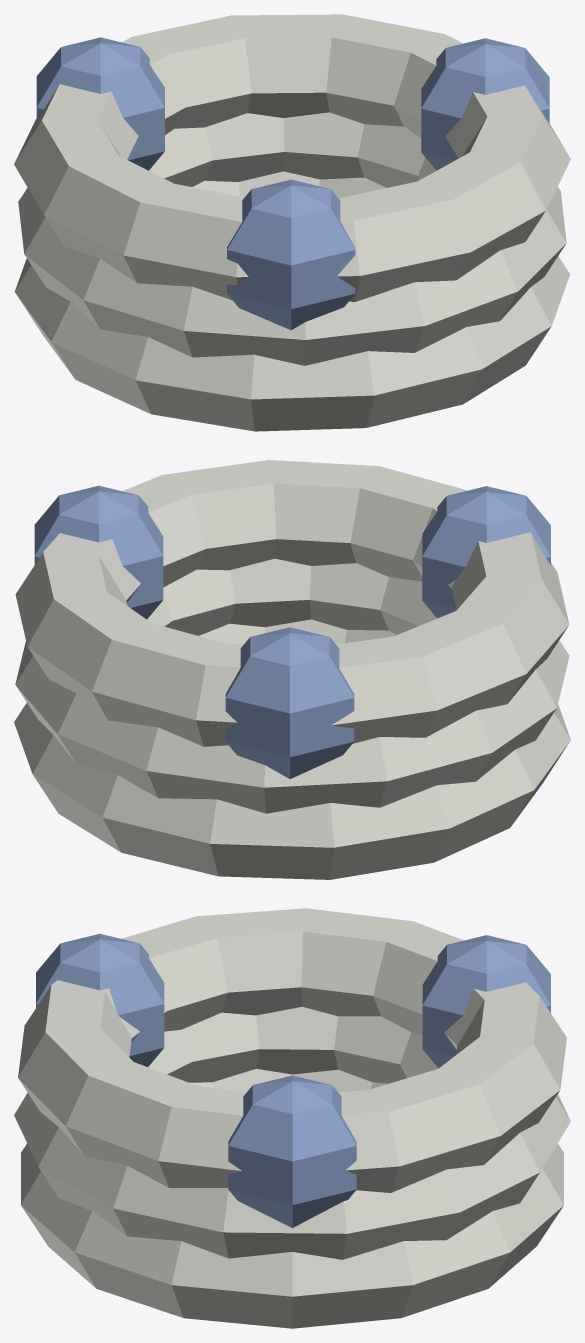
File: sheet_rope.glb
3 views of the same model, one above another, from view 1: azimuth 30°, elevation 25°; view 2: azimuth 150°, elevation 25°; view 3: azimuth 270°, elevation 25° (orthographic).
Parts seen in each view (by area): view 1: coil_sheet_white, knots_sheet_stripe; view 2: coil_sheet_white, knots_sheet_stripe; view 3: coil_sheet_white, knots_sheet_stripe.
Boxes of the visible parts, x1,y1,x2,y2 form: coil_sheet_white: (14,14,570,431); knots_sheet_stripe: (36,37,549,330); coil_sheet_white: (14,460,570,879); knots_sheet_stripe: (34,485,550,778); coil_sheet_white: (14,908,570,1328); knots_sheet_stripe: (36,933,550,1227).
Size of the model in its own units: 0.5166 by 0.2333 by 0.4998.
